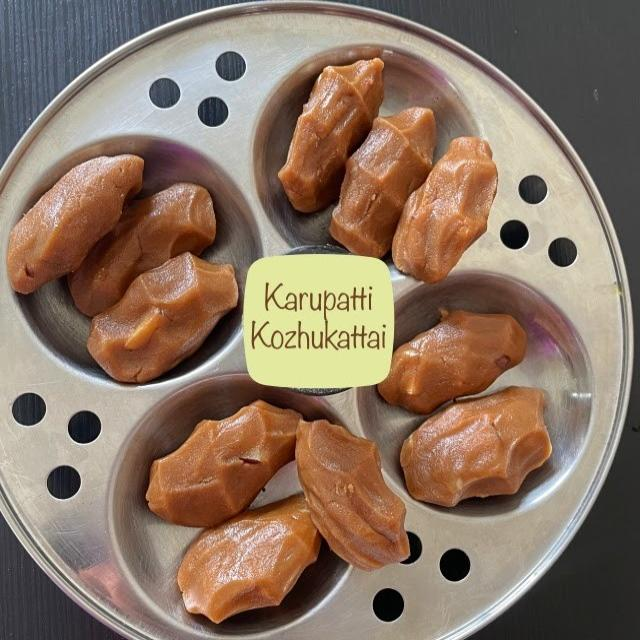pidi kolukattai: (2, 35, 547, 640)
